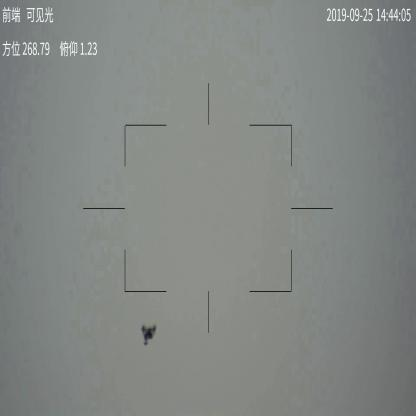uav: (140, 324, 158, 347)
